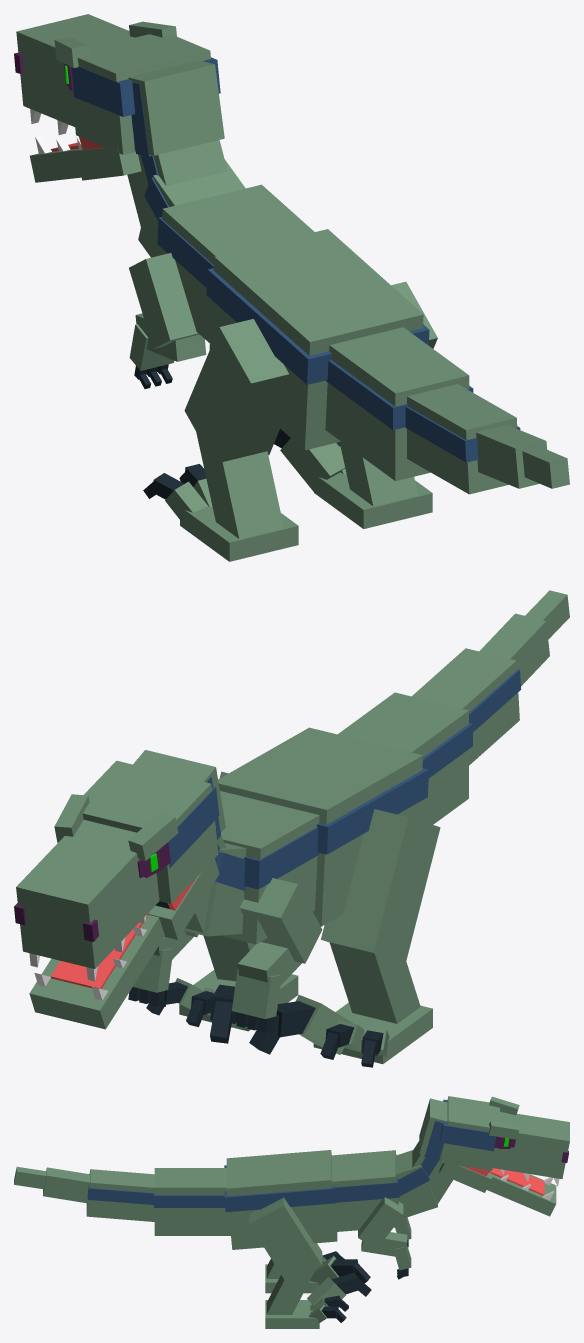
The model's file is velociraptor_2.obj.
3 renders of one model, top to bottom at view 1: azimuth 30°, elevation 25°; view 2: azimuth 150°, elevation 25°; view 3: azimuth 270°, elevation 25°, orthographic. The views are drawn at different scales.
Visible parts, largest first — view 1: torso, head, tail01, leg_L, tail02, leg_L_lower, leg_R_lower, arm_L, mouth, neck2, neck1, leg_R_Hand (+5 smaller); view 2: head, torso, leg_L, leg_L_lower, mouth, tail01, tail02, leg_R_lower, arm_L, neck1, tail03, arm_L_hand (+5 smaller); view 3: torso, head, tail01, leg_R, tail02, leg_R_lower, mouth, neck1, tail03, arm_R, leg_L_lower, leg_R_Hand (+5 smaller).
Part boxes in pixels (x1,y1,x2,y2): torso: (157,184,429,450); head: (14,14,224,156); tail01: (325,327,473,481); leg_L: (184,319,289,467); tail02: (405,384,520,494); leg_L_lower: (143,432,283,538); leg_R_lower: (274,428,418,506); arm_L: (129,253,199,348); mouth: (30,135,141,182); neck2: (127,140,227,226); neck1: (138,159,245,257); leg_R_Hand: (314,472,432,528); head: (14,750,225,981); torso: (218,727,428,944); leg_L: (321,809,440,962); leg_L_lower: (249,942,420,1067); mouth: (29,854,219,1029); tail01: (338,692,472,824); tail02: (412,648,521,765); leg_R_lower: (146,935,255,1043); arm_L: (239,878,322,963); neck1: (184,843,246,936); tail03: (479,613,549,686); arm_L_hand: (232,969,281,1033); torso: (224,1150,400,1249); head: (419,1096,569,1186); tail01: (154,1168,230,1235); leg_R: (249,1197,322,1283); tail02: (86,1169,154,1221); leg_R_lower: (266,1269,371,1323); mouth: (439,1160,556,1216); neck1: (396,1150,437,1219); tail03: (43,1167,89,1203); arm_R: (358,1197,403,1249); leg_L_lower: (266,1251,370,1285); leg_R_Hand: (265,1300,319,1328).
Size of the model in its own units: 3.21 by 4.8 by 12.48.
